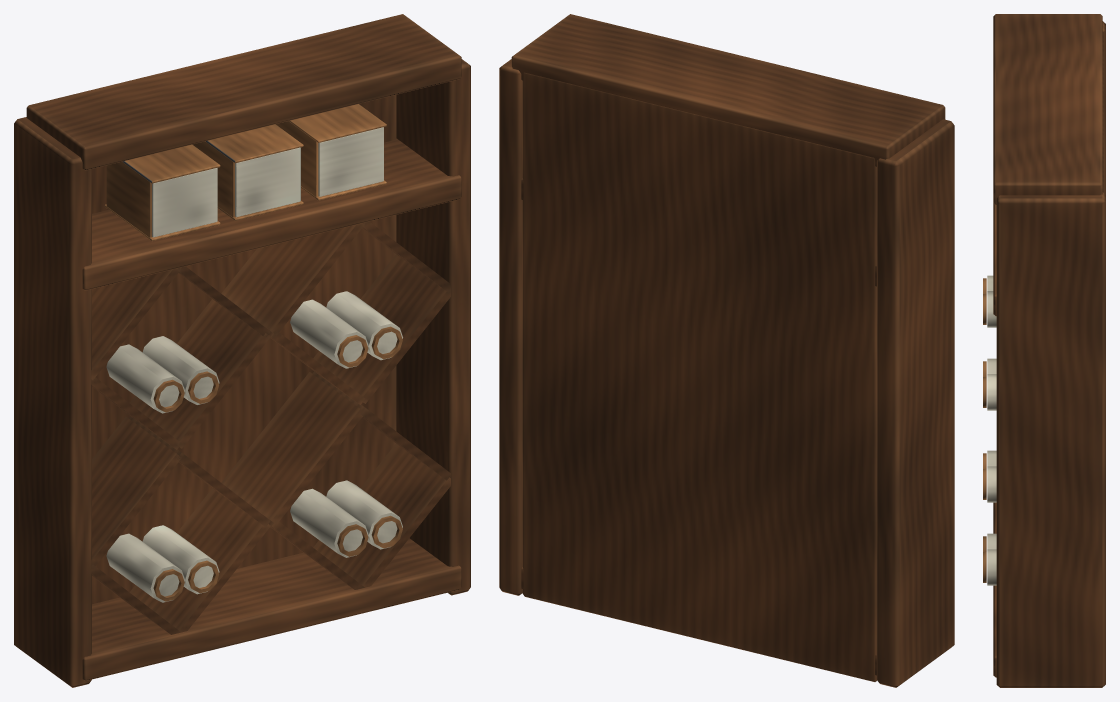
File: Furn_Magic_ScrollRack.fbx
3 renders of one model, left to right at view 1: azimuth 30°, elevation 25°; view 2: azimuth 150°, elevation 25°; view 3: azimuth 270°, elevation 25°, orthographic. The views are drawn at different scales.
Parts seen in each view (by area): view 1: Furn_Magic_ScrollRack; view 2: Furn_Magic_ScrollRack; view 3: Furn_Magic_ScrollRack.
Part boxes in pixels (box(x1,y1,x2,y2)): Furn_Magic_ScrollRack: box(14, 14, 470, 687); Furn_Magic_ScrollRack: box(499, 14, 954, 687); Furn_Magic_ScrollRack: box(983, 14, 1105, 687).
Size of the model in its own units: 1.4 by 1.8 by 0.4.
3 materials, 3 textured.
